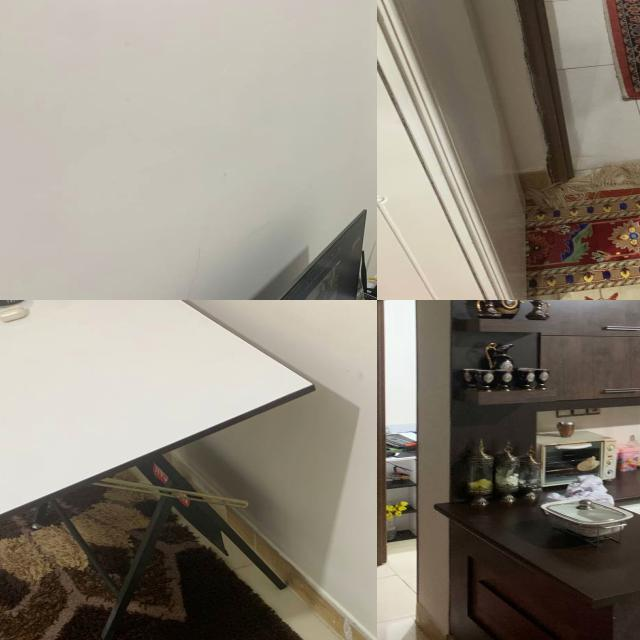Floor: (377, 542, 435, 640)
Wall: (178, 300, 377, 640), (470, 0, 547, 148), (379, 300, 418, 444)
